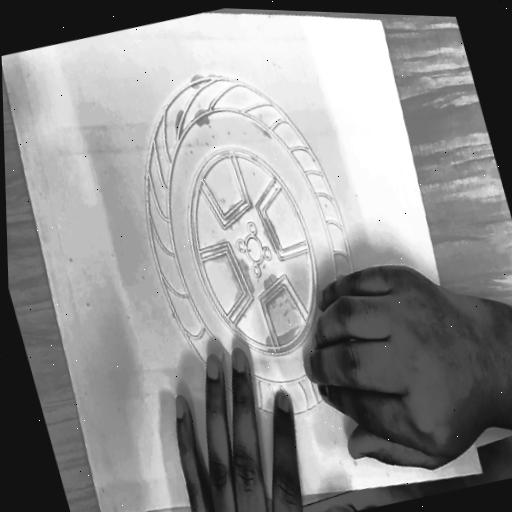bottom_left: (477, 467, 489, 481)
bottom_right: (93, 503, 107, 512)
tire: (111, 26, 390, 459)
top_left: (377, 16, 386, 29)
